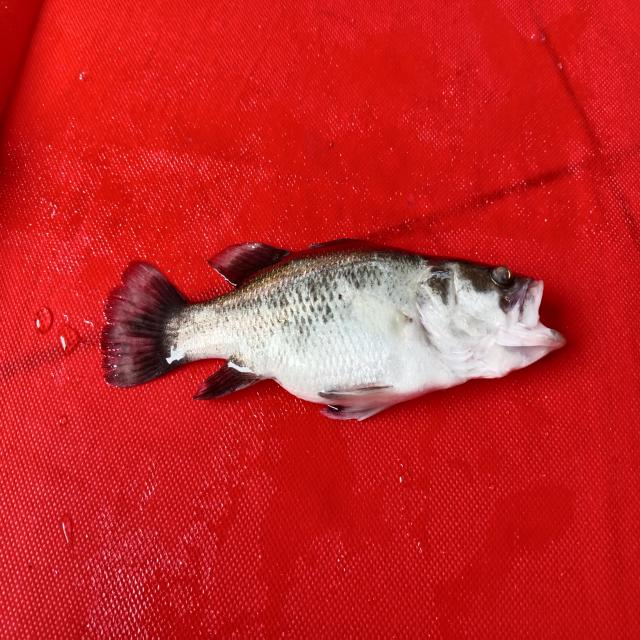ikan: (90, 215, 573, 435)
